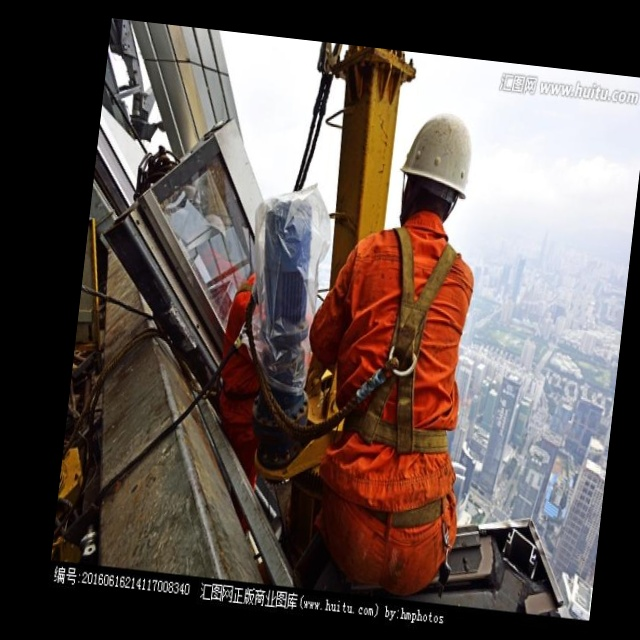Con_Casco: (400, 111, 476, 229)
